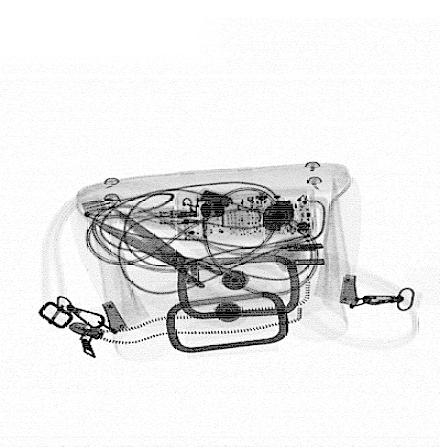Scissors: (83, 205, 226, 292)
